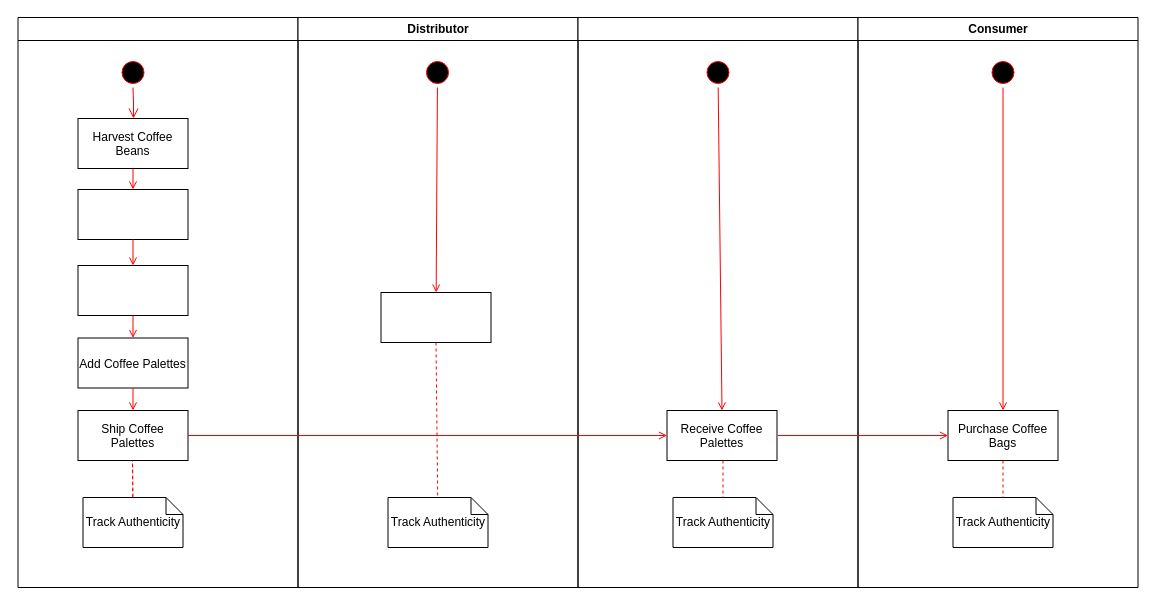
The diagram is 1155 pixels wide and 605 high, and some of its shapes have lost their labels. Each missing label, with the box of its shape:
Buy Coffee Palettes: (380, 292, 491, 342)
Farmer: (17, 16, 298, 588)
Pack Coffee Bags / Palettes: (77, 264, 188, 316)
Process Coffee Beans: (77, 188, 188, 240)
Retailor: (577, 16, 858, 588)
